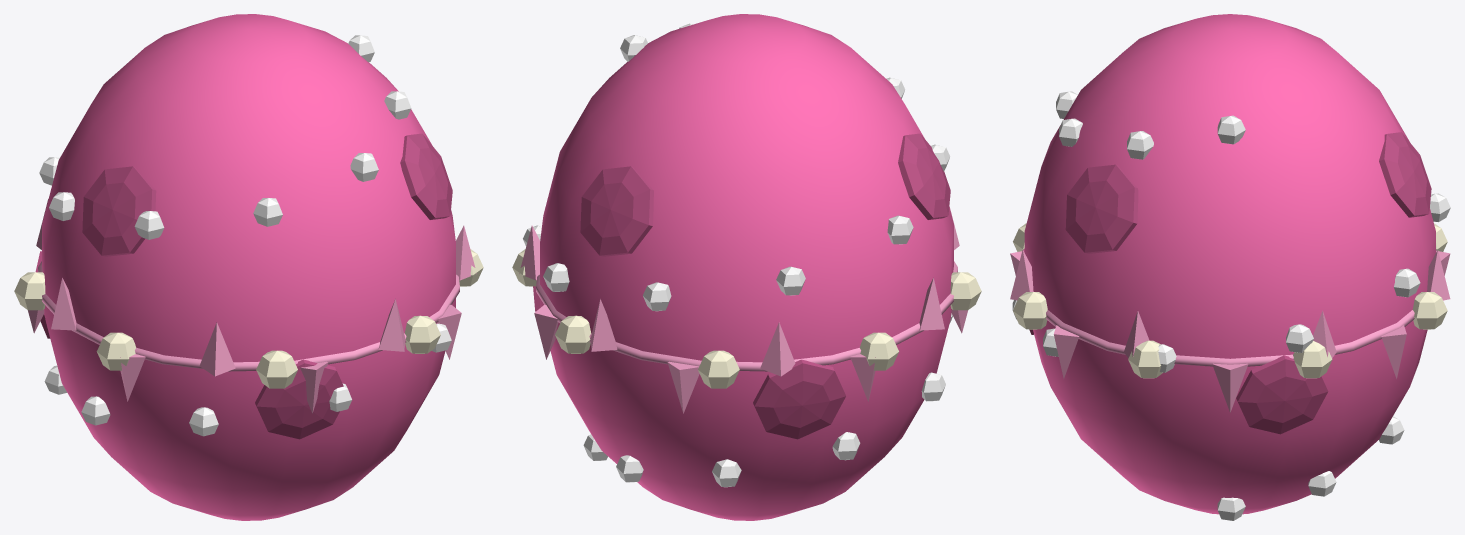
File: Ovo_MythicEgg.fbx
3 views of the same model, side by side, from view 1: azimuth 30°, elevation 25°; view 2: azimuth 150°, elevation 25°; view 3: azimuth 270°, elevation 25° (orthographic).
Visible parts, largest first — view 1: Casca_MythicEgg; view 2: Casca_MythicEgg; view 3: Casca_MythicEgg.
Part boxes in pixels (box(x1,y1,x2,y2)): Casca_MythicEgg: box(14, 14, 483, 520); Casca_MythicEgg: box(512, 14, 981, 520); Casca_MythicEgg: box(1010, 14, 1450, 520).
Bounding box in the file's own units: 1.74 × 2 × 1.7.
1 material, 1 textured.
